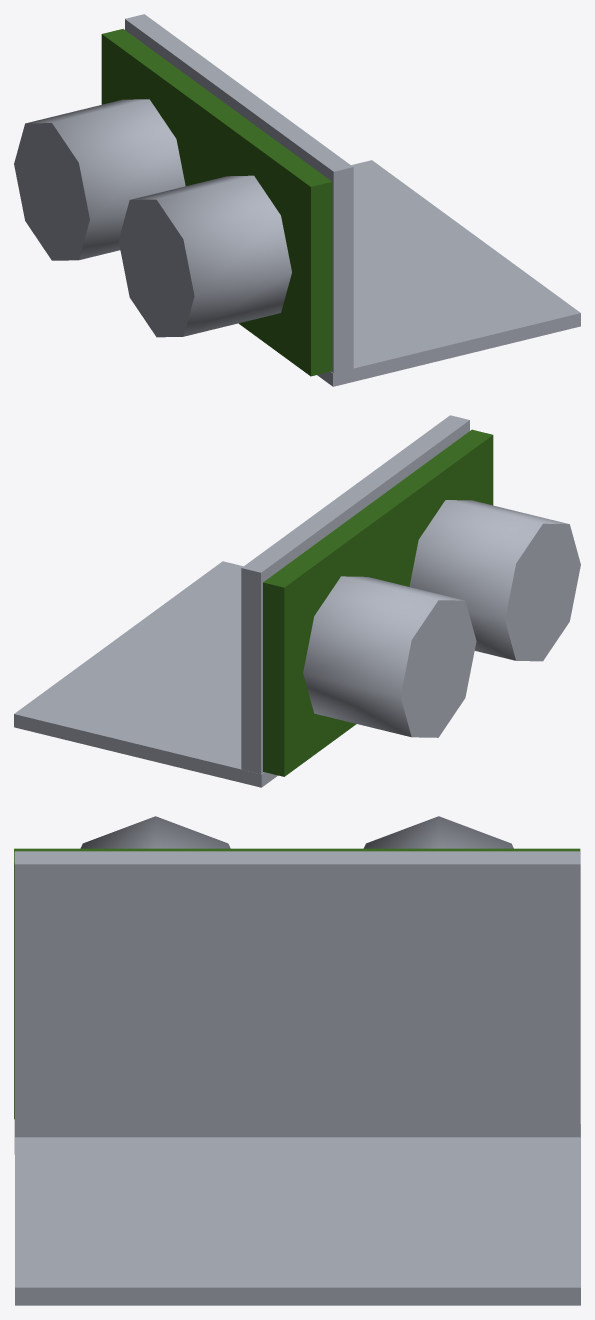
Rendered from devantech_srf05.dae.
3 views of the same model, one above another, from view 1: azimuth 30°, elevation 25°; view 2: azimuth 150°, elevation 25°; view 3: azimuth 270°, elevation 25° (orthographic). The views are drawn at different scales.
Visible parts, largest first — view 1: Plane_003_000; view 2: Plane_003_000; view 3: Plane_003_000.
Part boxes in pixels (<box>): Plane_003_000: <box>14,14,580,386</box>; Plane_003_000: <box>14,415,580,787</box>; Plane_003_000: <box>14,816,580,1305</box>.
Size of the model in its own units: 0.0453 by 0.044 by 0.025.
